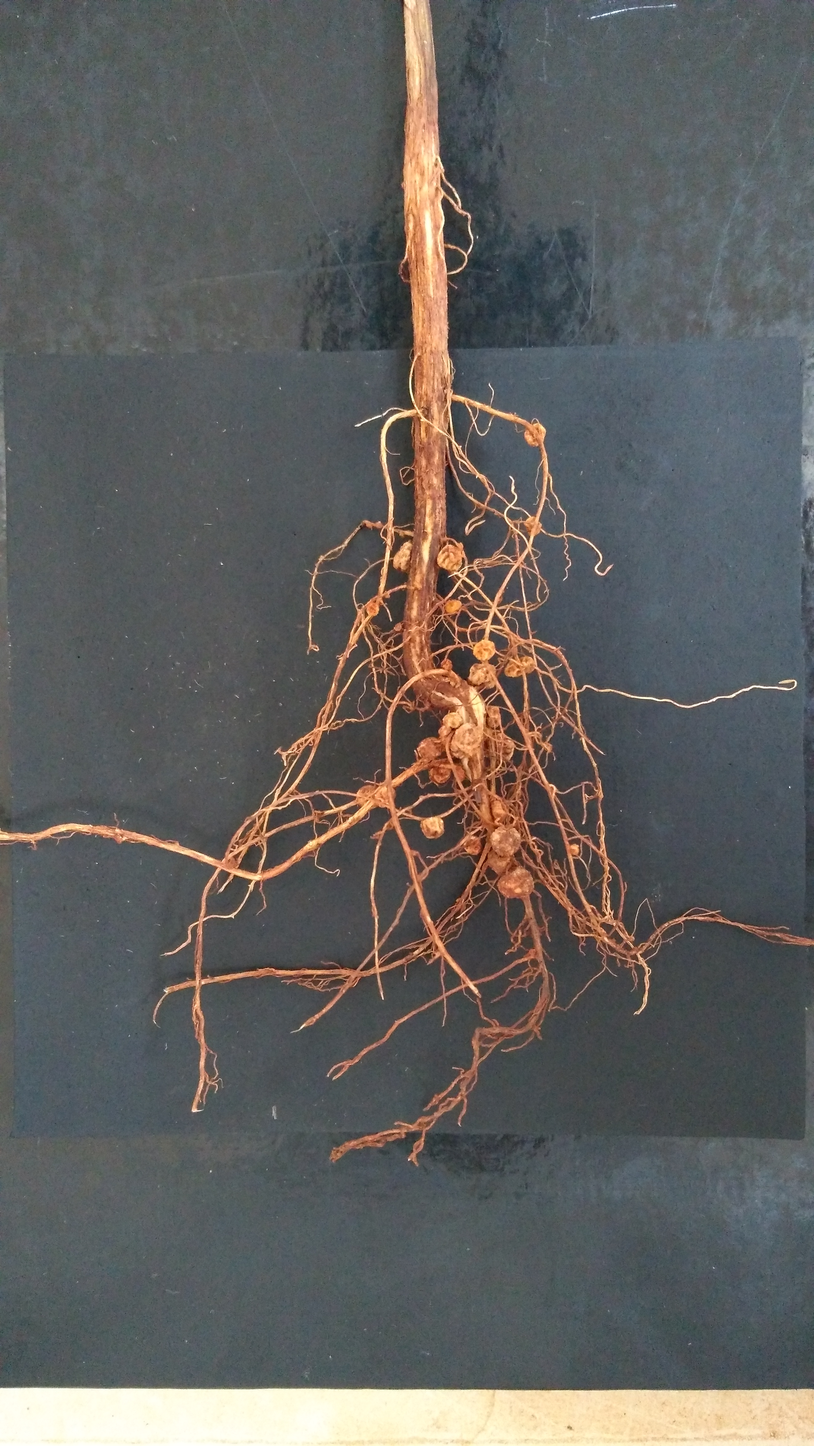nodule: (497, 866, 534, 897), (450, 723, 481, 759), (484, 727, 515, 760), (490, 824, 521, 855), (429, 751, 452, 787), (478, 800, 507, 827), (437, 544, 463, 571), (469, 664, 497, 689), (393, 540, 413, 573), (504, 656, 535, 677), (356, 784, 382, 809), (488, 849, 514, 874), (417, 737, 444, 758), (420, 817, 445, 839), (525, 423, 546, 446), (473, 640, 495, 661), (375, 785, 395, 808), (523, 516, 542, 536), (450, 758, 465, 782), (464, 834, 481, 855), (443, 712, 463, 729), (486, 705, 500, 727), (438, 725, 453, 744), (445, 600, 462, 615), (366, 602, 379, 616), (441, 659, 453, 670), (547, 784, 556, 798), (569, 844, 579, 855), (393, 623, 402, 632), (529, 948, 536, 957), (385, 594, 390, 598)
